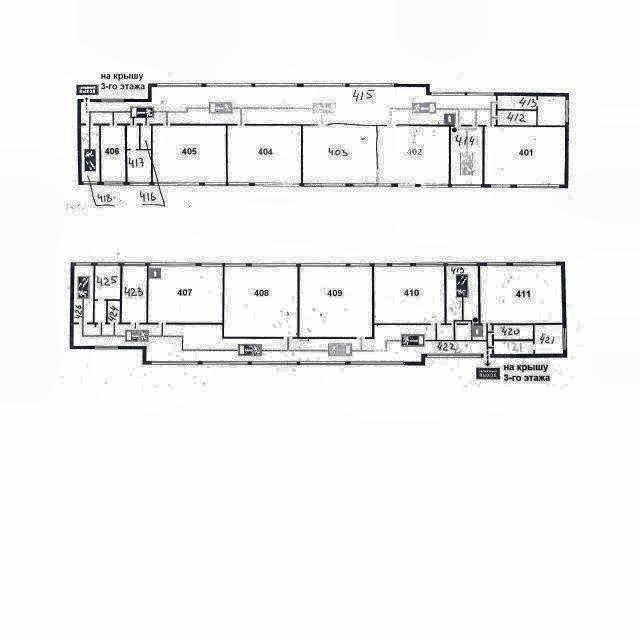room: (82, 86, 496, 125), (73, 324, 487, 362), (300, 266, 373, 336), (227, 265, 295, 337), (481, 265, 562, 324), (486, 126, 567, 185), (153, 125, 226, 181), (228, 127, 302, 182), (376, 267, 447, 323), (380, 127, 449, 183), (150, 267, 222, 320), (305, 128, 377, 181), (453, 127, 481, 185), (448, 267, 478, 320), (103, 125, 124, 182), (124, 264, 144, 320), (81, 125, 99, 181), (76, 267, 94, 322), (95, 266, 119, 299), (538, 96, 565, 125), (536, 326, 563, 353), (129, 151, 148, 181), (498, 111, 536, 125), (498, 96, 536, 109), (493, 326, 532, 338), (494, 343, 534, 353), (128, 126, 139, 149), (108, 300, 119, 322), (141, 125, 151, 149), (95, 301, 105, 322)
